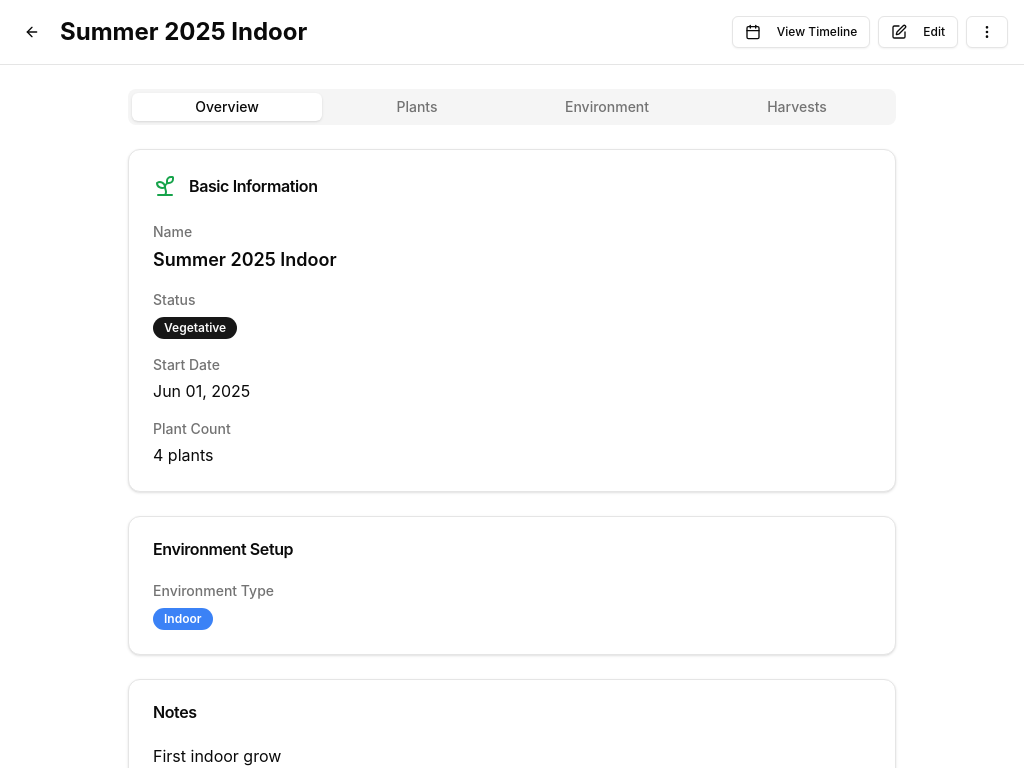
Test: GrowDetailPage › opens edit dialog when edit button is clicked
Click the button "Edit": click(918, 32) [878,16,958,48]
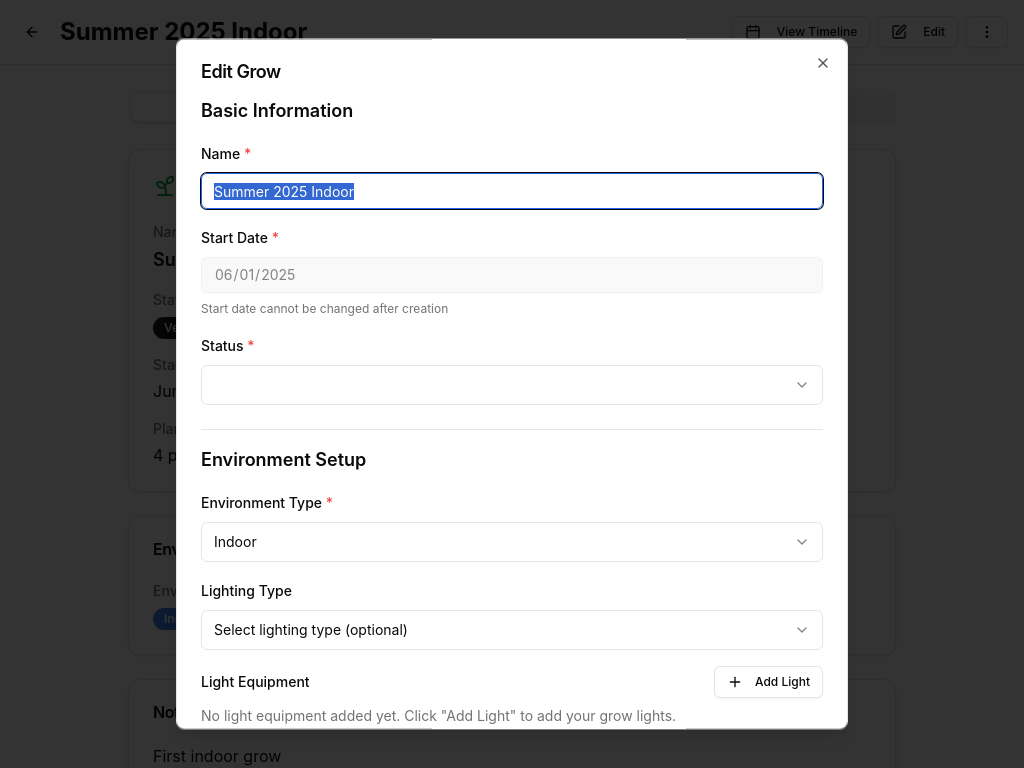
Result: the heading "Edit Grow" is shown at [201,61,281,82]
